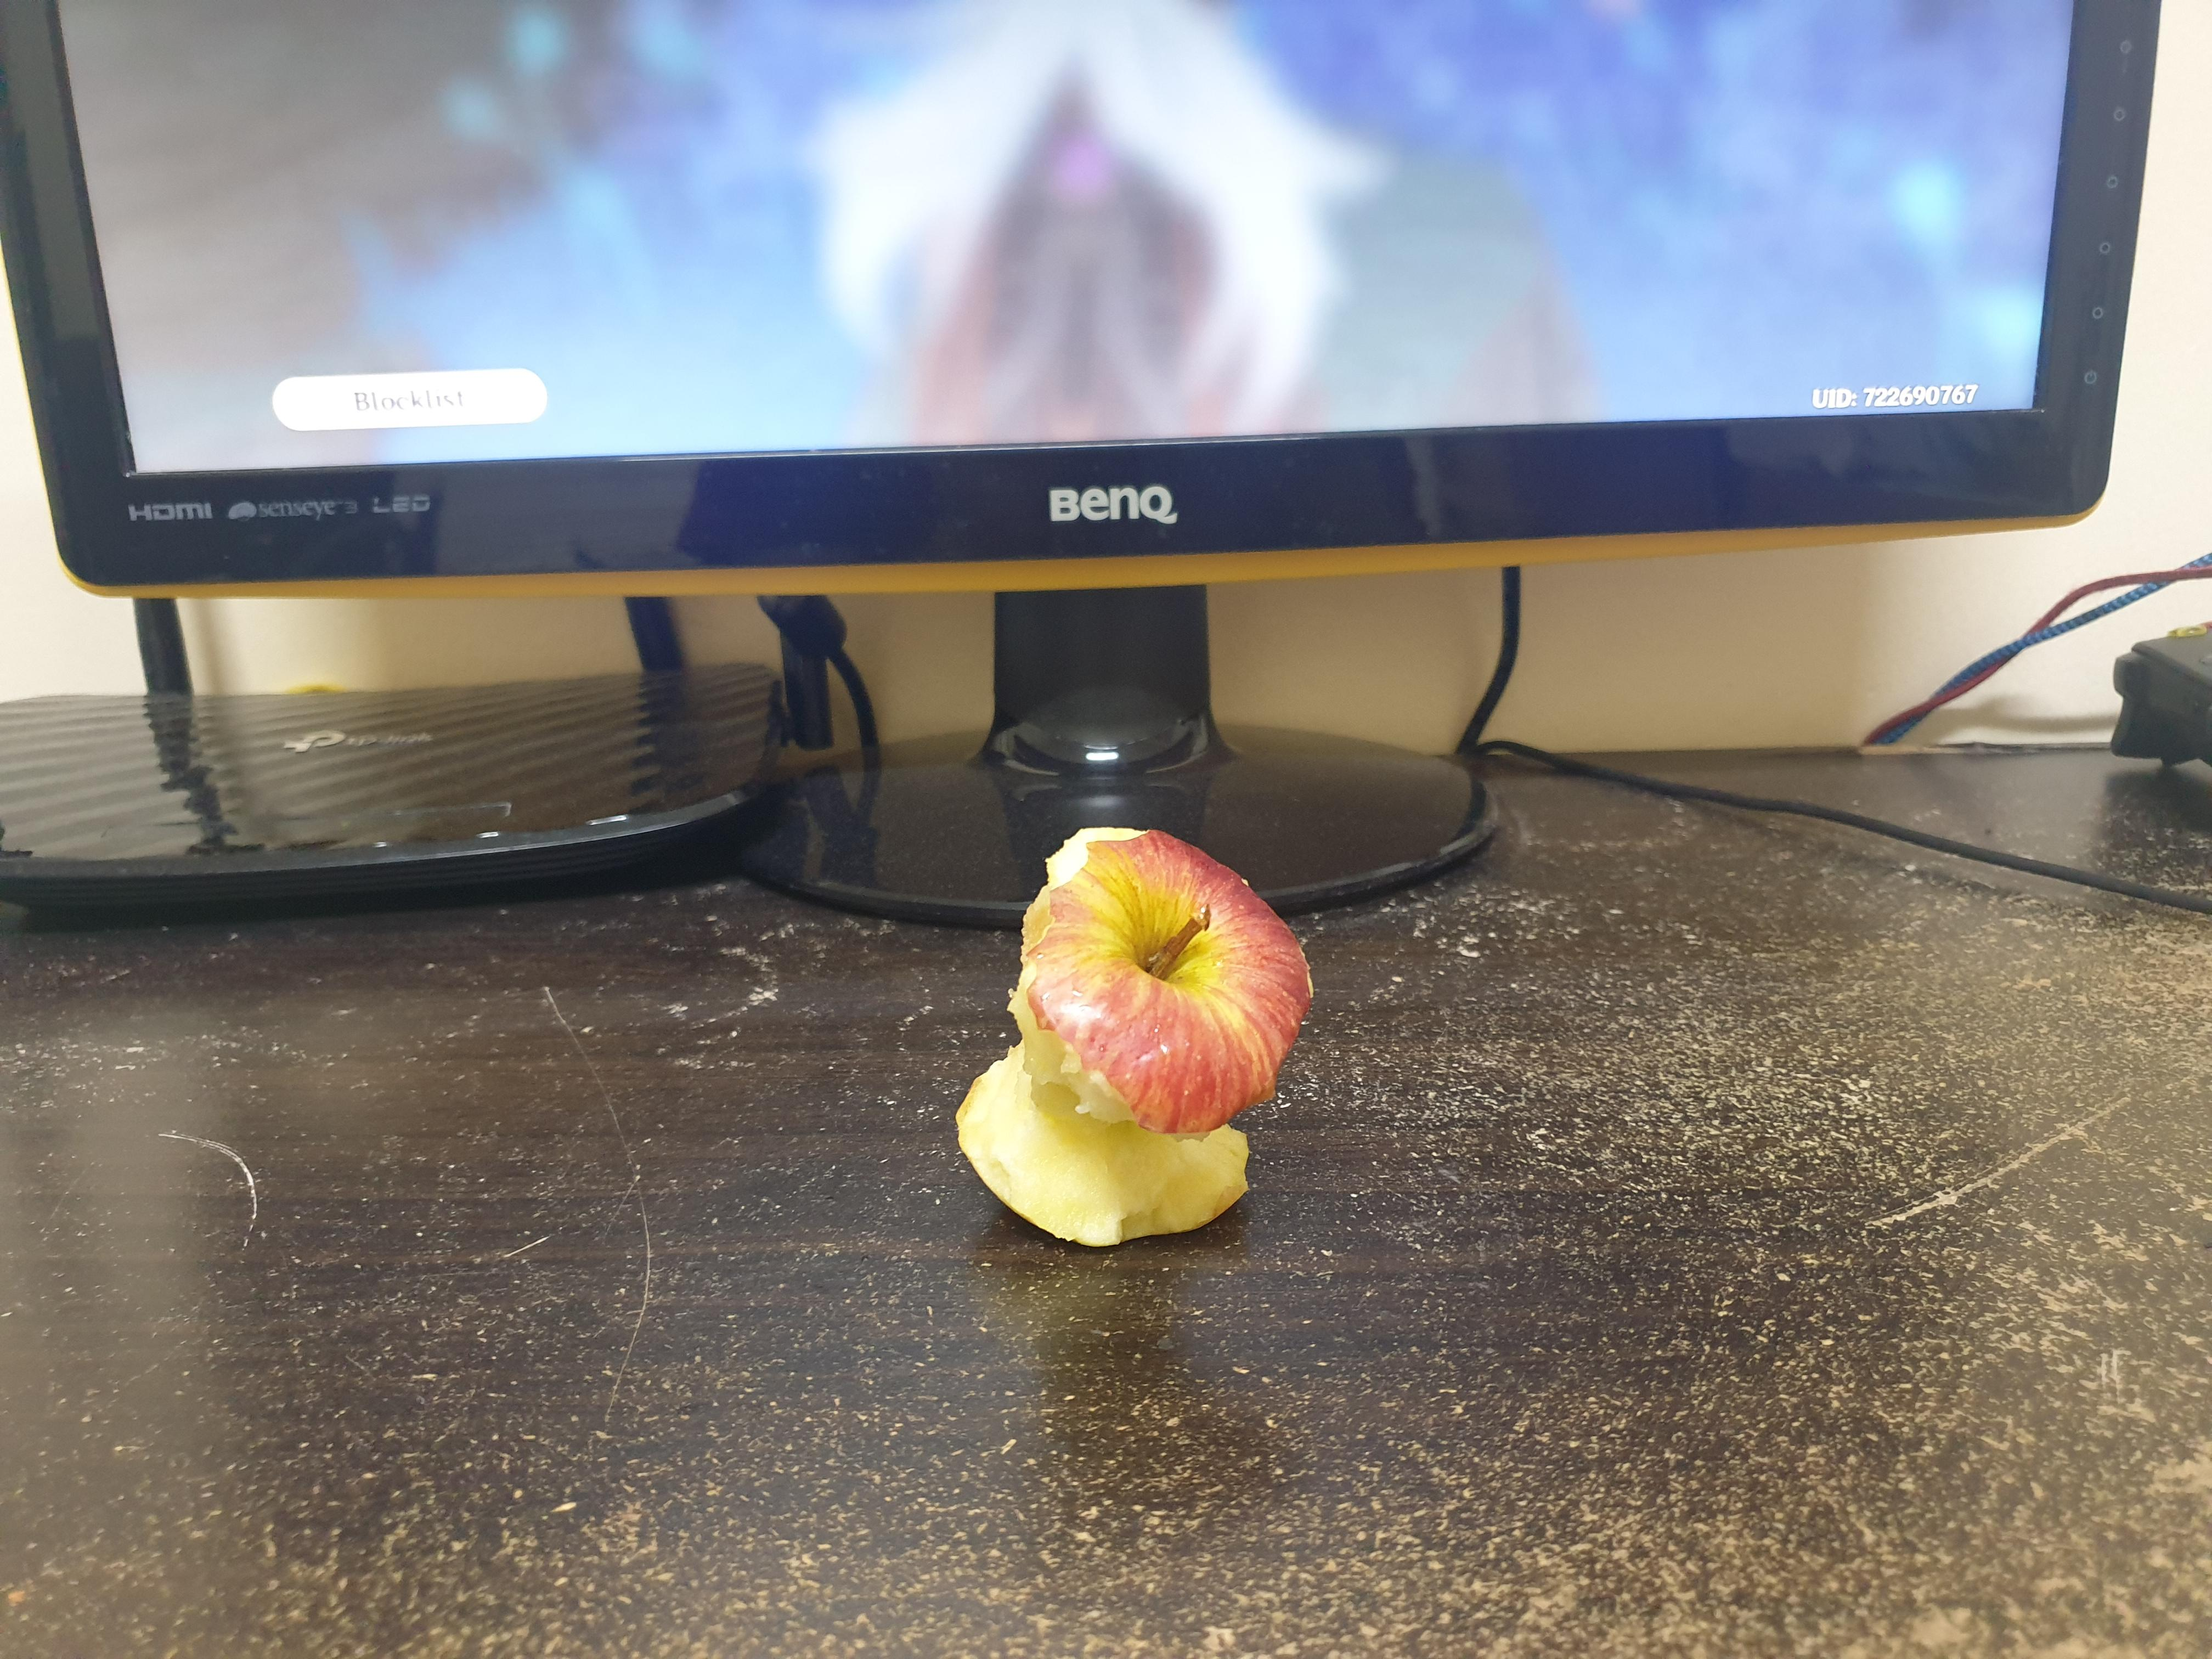Apple: (911, 805, 1353, 1304)
